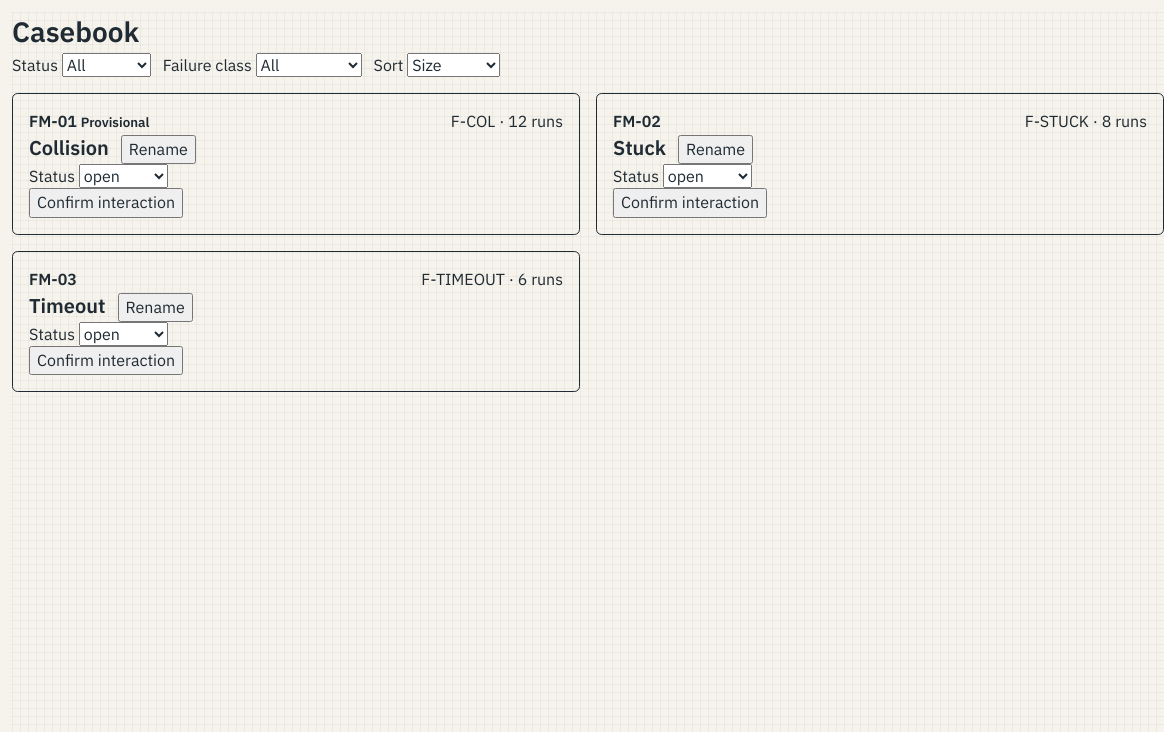
Test: shows three cases and rolls back an optimistic rename after an ETag conflict
This screenshot has width=1164, height=732.
Expected: the text "Provisional" is shown, x1=81 y1=113 x2=149 y2=131
Click the button "Rename" next to "Collision" at (158, 150), box x1=121 y1=135 x2=196 y2=164
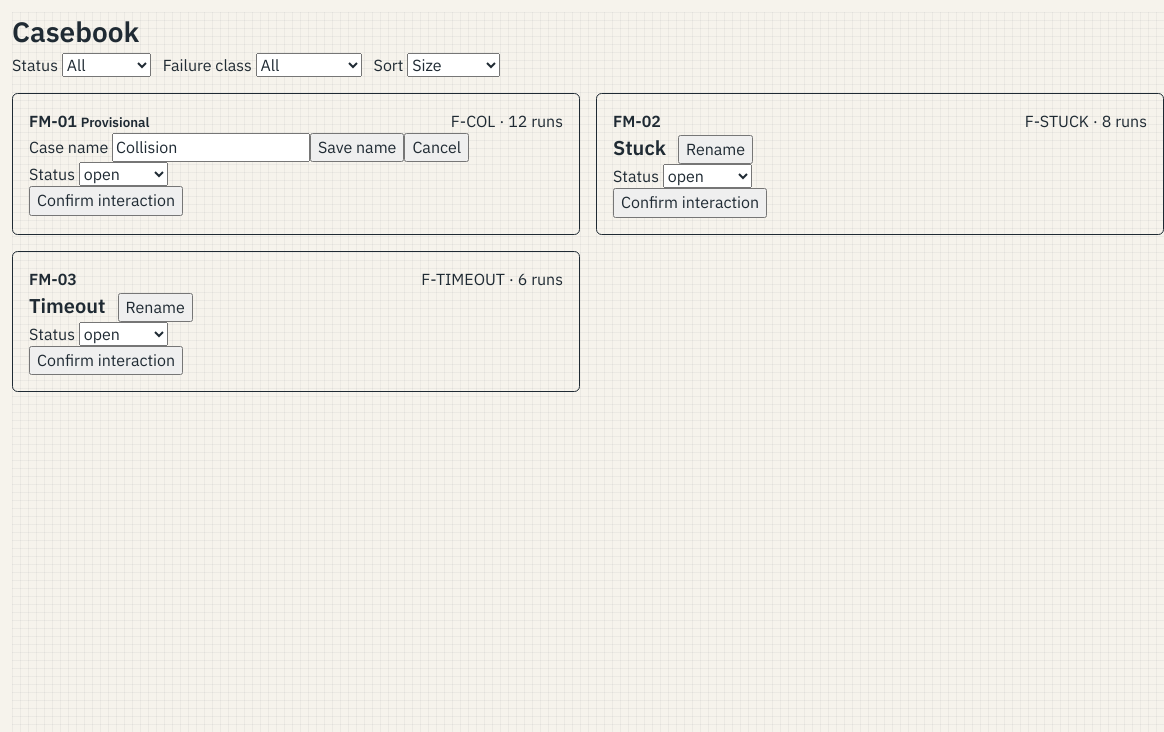
Replace the text in the field labelled "Case name" with "Edited case" at (211, 148), box x1=112 y1=133 x2=310 y2=162
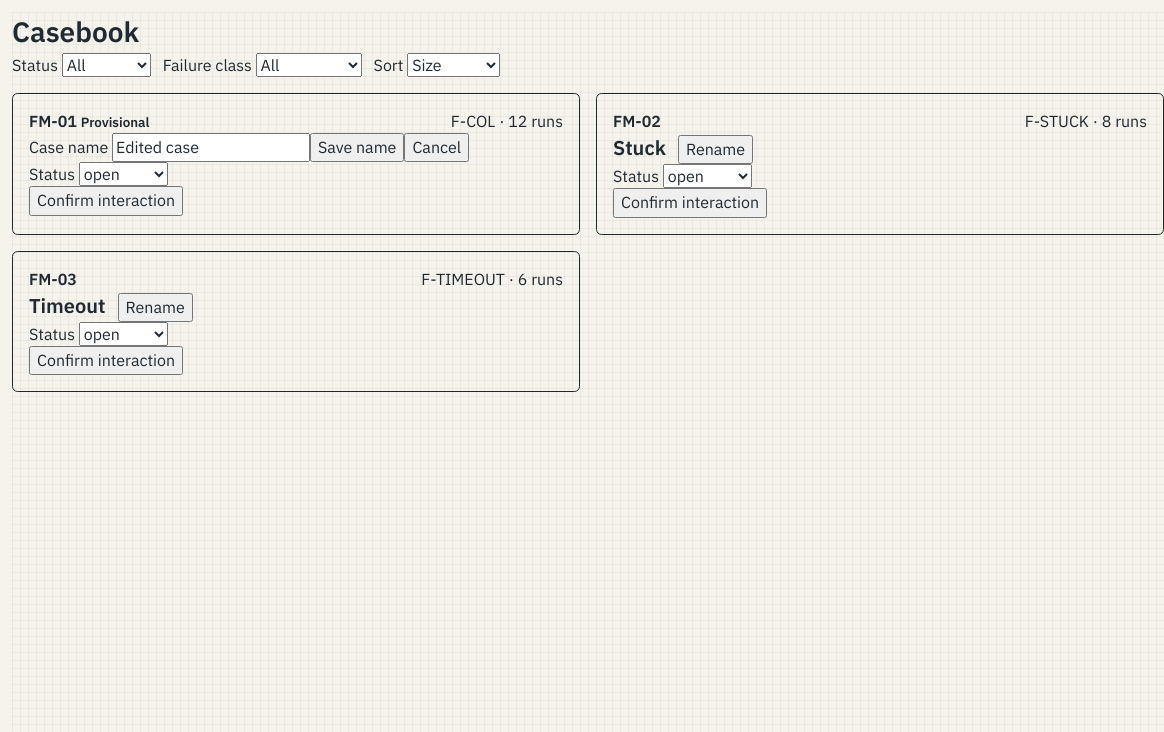
Click the button "Save name" at (357, 148), box x1=310 y1=133 x2=404 y2=162
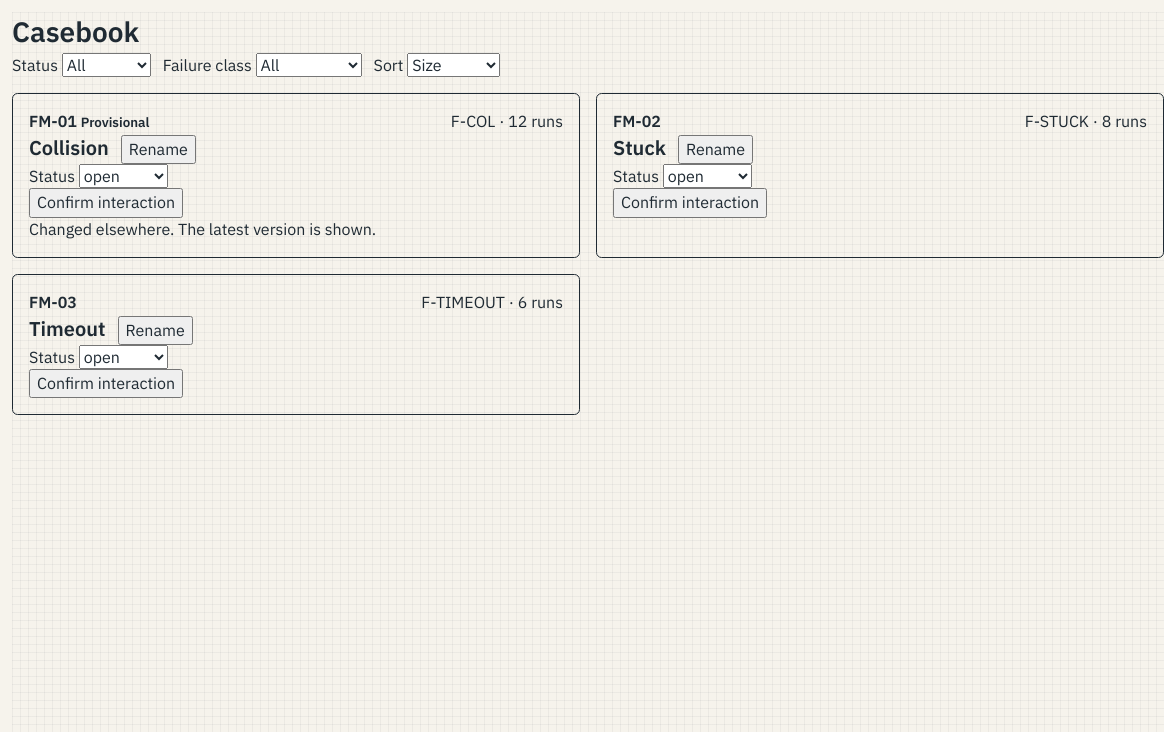
Expected: the heading "Collision" is shown, x1=29 y1=133 x2=109 y2=162
Expected: the message shows "Changed elsewhere", x1=29 y1=218 x2=376 y2=238
